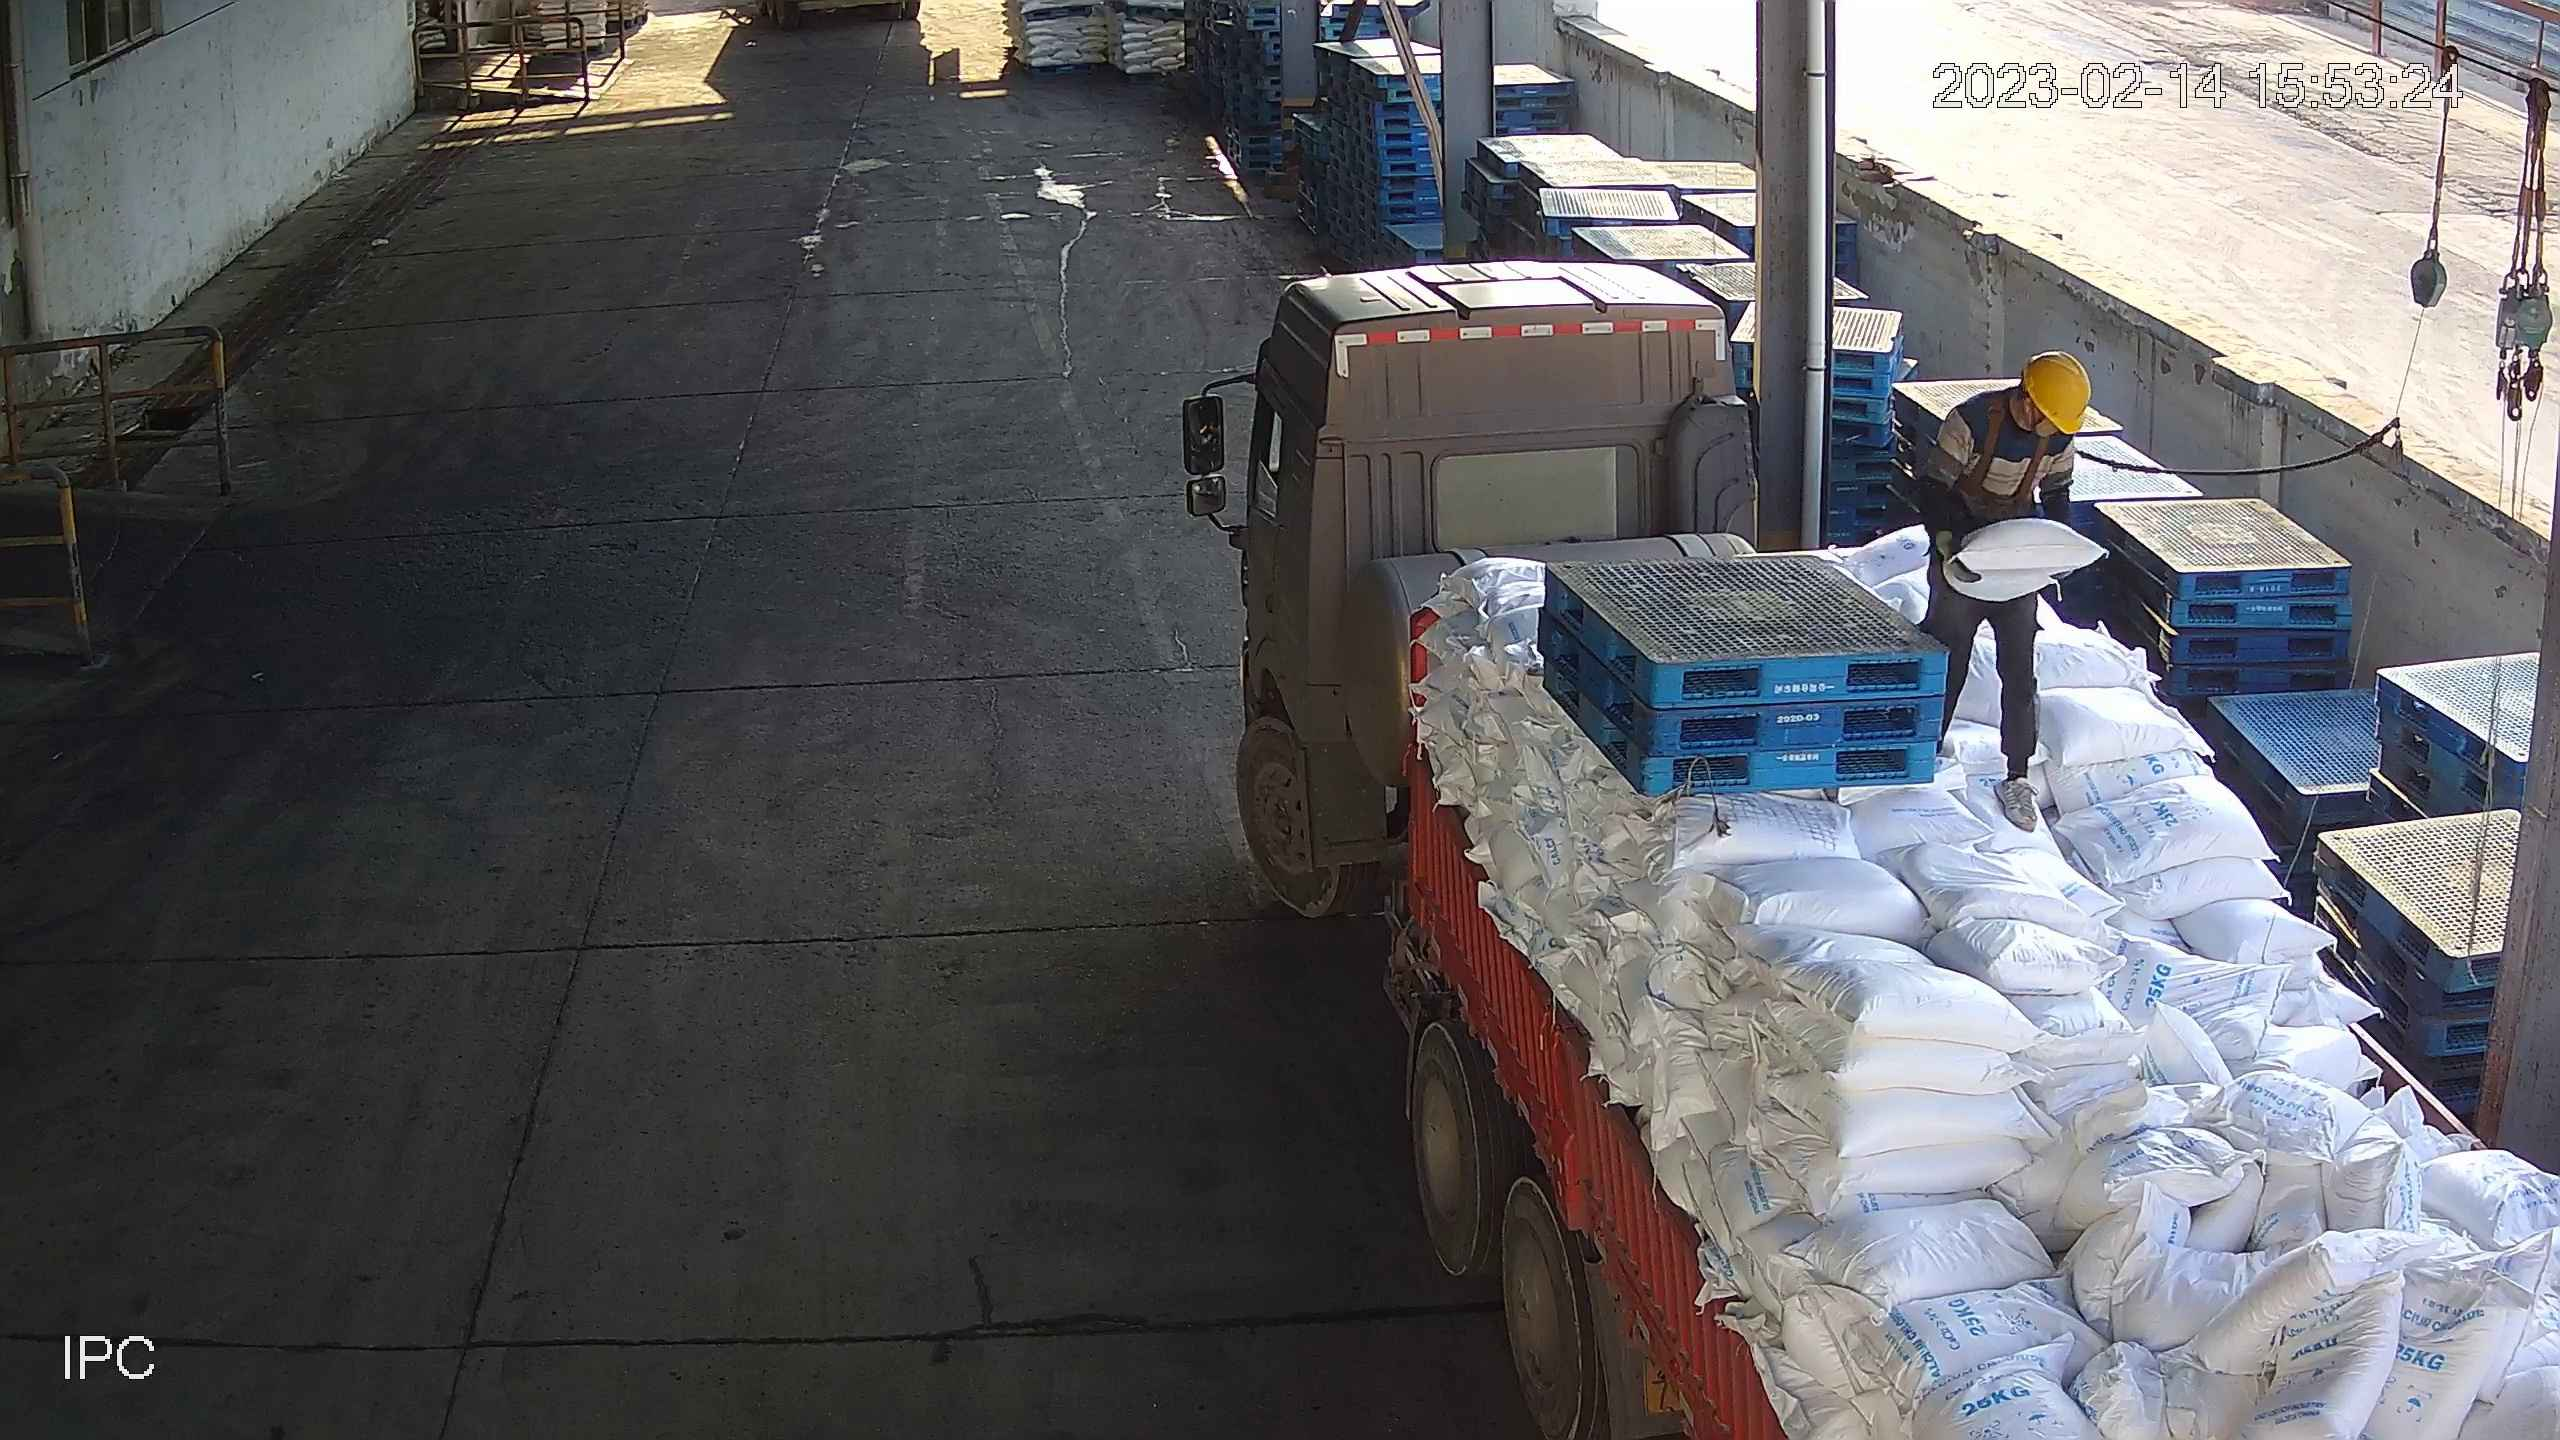belt: (1959, 392, 2048, 506)
head: (1937, 350, 2096, 471)
helmet: (2024, 348, 2094, 436)
people: (1918, 347, 2093, 832)
truck: (1180, 261, 2560, 1440)
